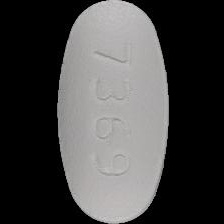0093-7369: (0, 0, 224, 224)
